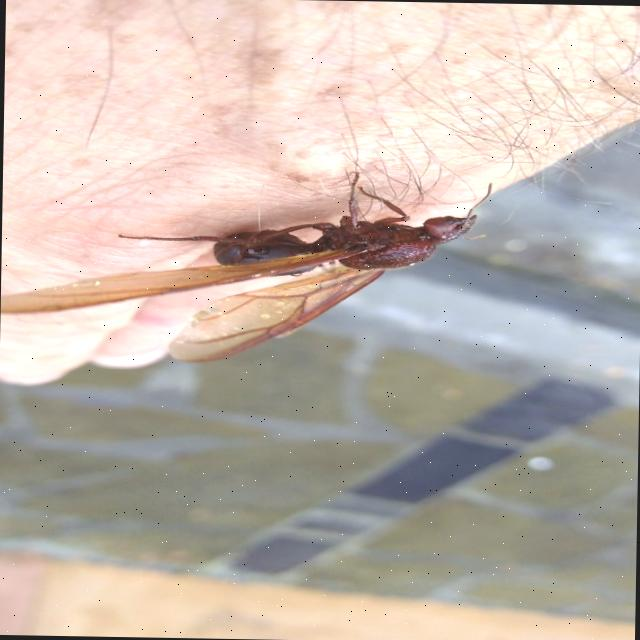Alive-Female-Alate: (0, 165, 493, 367)
